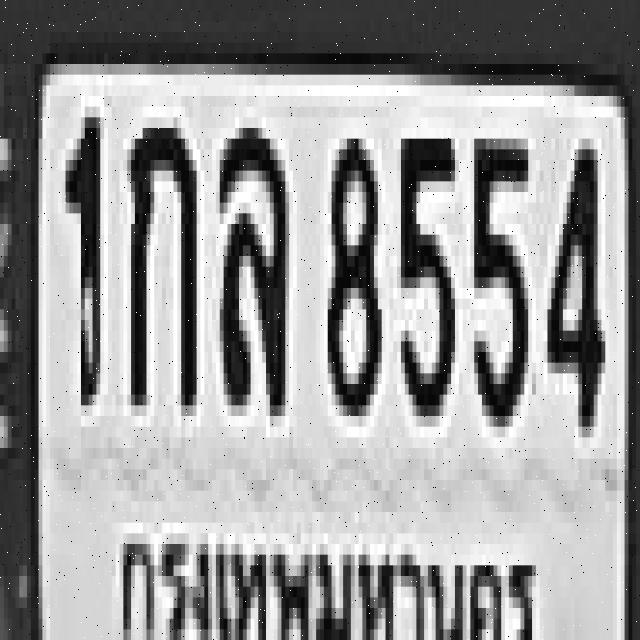1: (62, 106, 96, 394)
10GorGai: (127, 117, 193, 406)
4: (544, 128, 602, 426)
45LorLing: (216, 117, 286, 395)
5: (470, 128, 524, 416), (397, 127, 451, 406)
8: (324, 127, 378, 406)
Bangkok: (115, 504, 542, 640)
